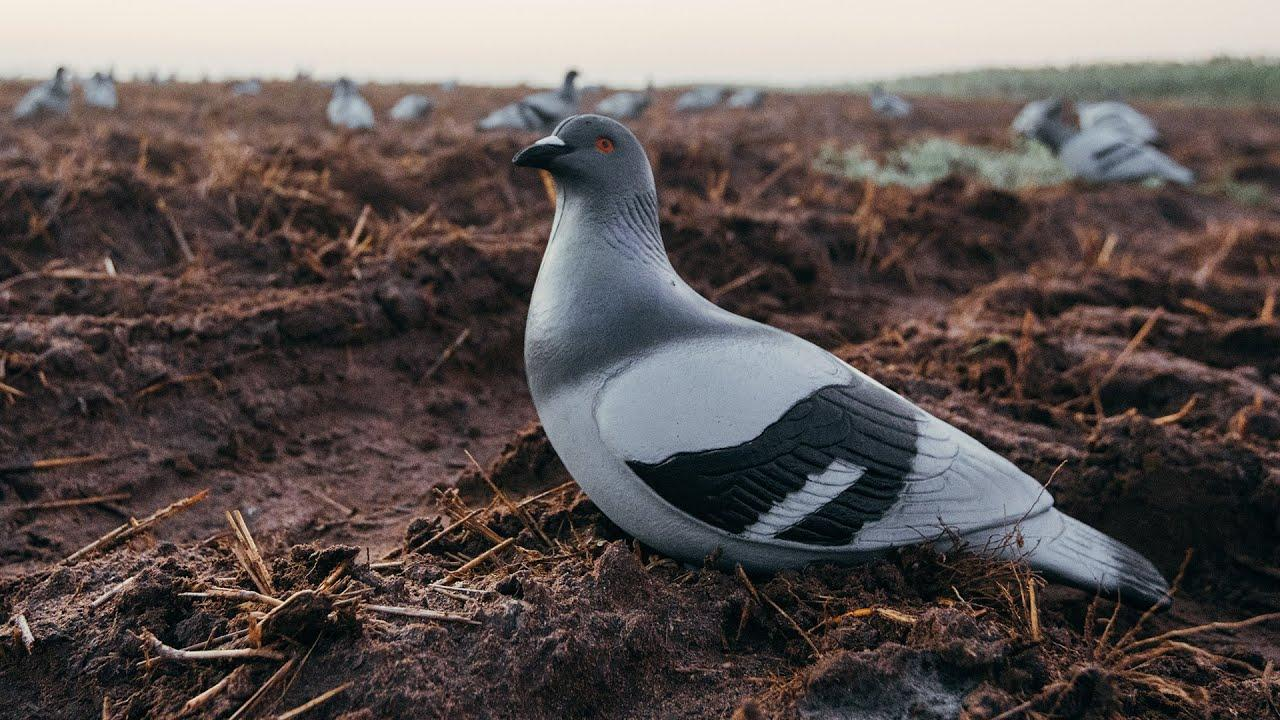Flying Rat: (519, 124, 1174, 646), (520, 53, 583, 123), (312, 68, 377, 130), (19, 66, 75, 130), (600, 73, 665, 116), (385, 93, 439, 128)
